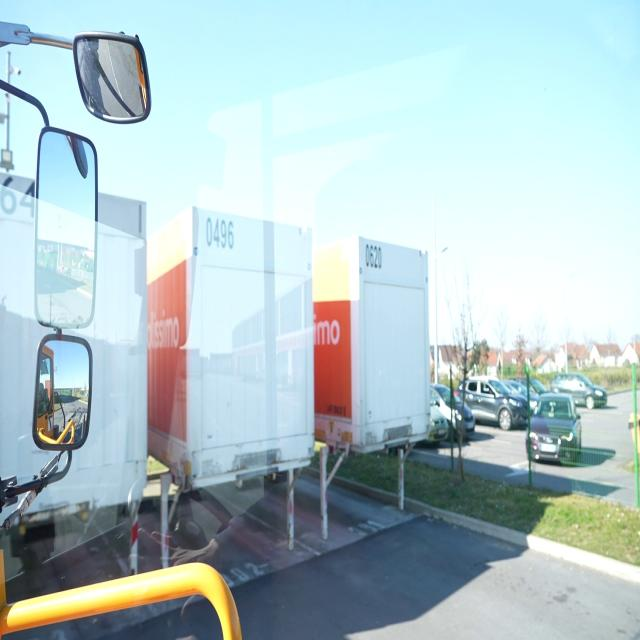Code: (204, 215, 237, 252), (361, 240, 386, 276)
